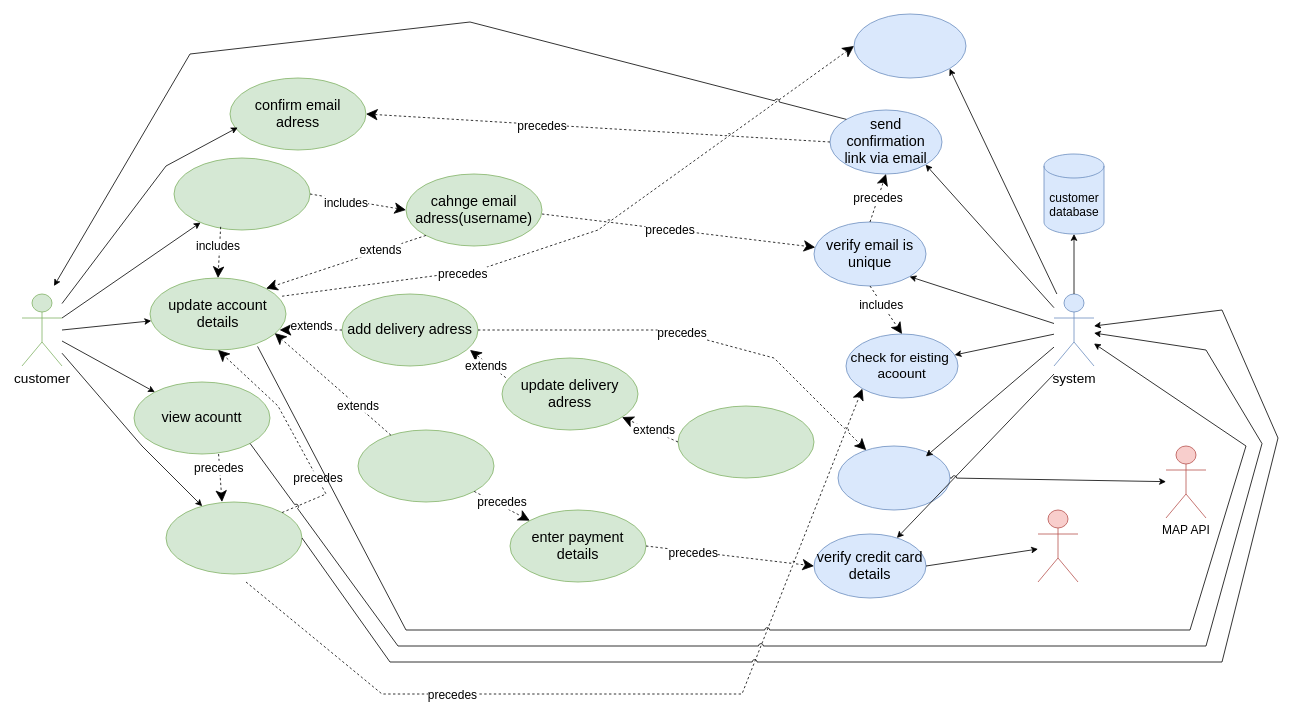
Image size: 1298x719. Some labels were removed from this diagram. The shapes that lost their labels are listed below. From the top down, each one's centre as x and y in pixels, then its label:
At [909,45]: "update customer database".
At [241,193]: "register".
At [745,441]: "delete delivery adress".
At [425,465]: "add payment method".
At [893,477]: "verify valid adress".
At [233,537]: "login".
At [1057,545]: "third-party payment verification service".
